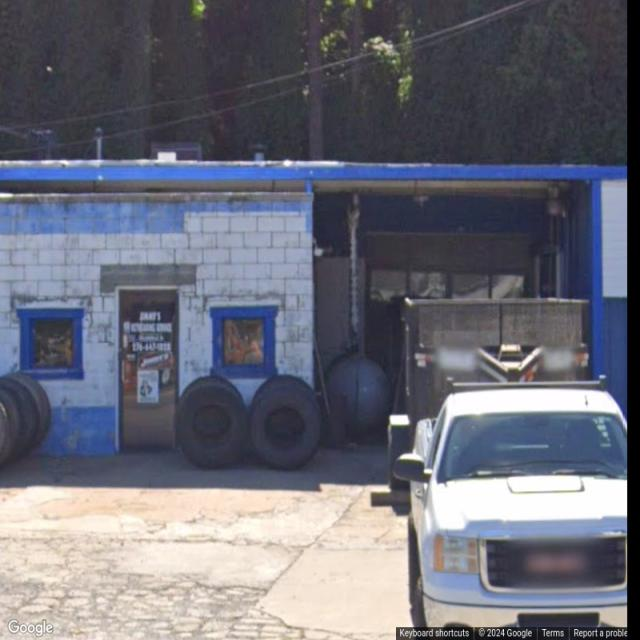House: (0, 127, 627, 454)
